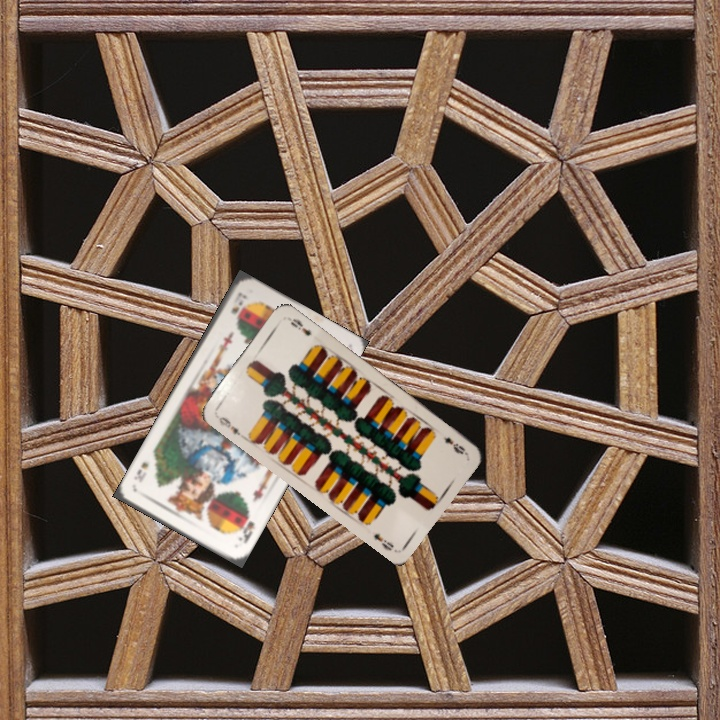E9: (440, 433, 470, 457), (215, 413, 243, 438)
SK: (234, 508, 258, 546), (227, 288, 250, 317)
